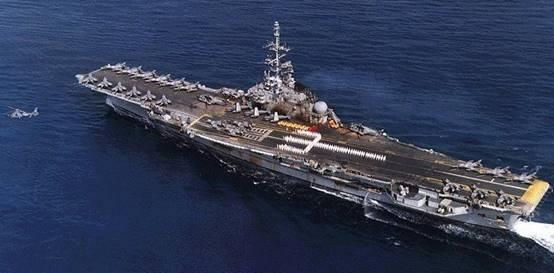airplane: (4, 106, 42, 123)
warship: (67, 25, 546, 237)
